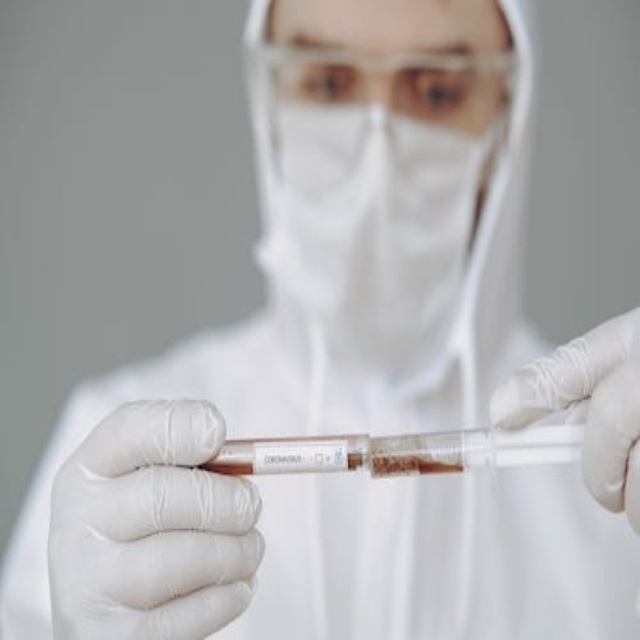Gafas: (257, 33, 513, 134)
Guantes: (49, 394, 264, 640), (489, 295, 637, 550)
Mascara: (248, 15, 521, 403)
